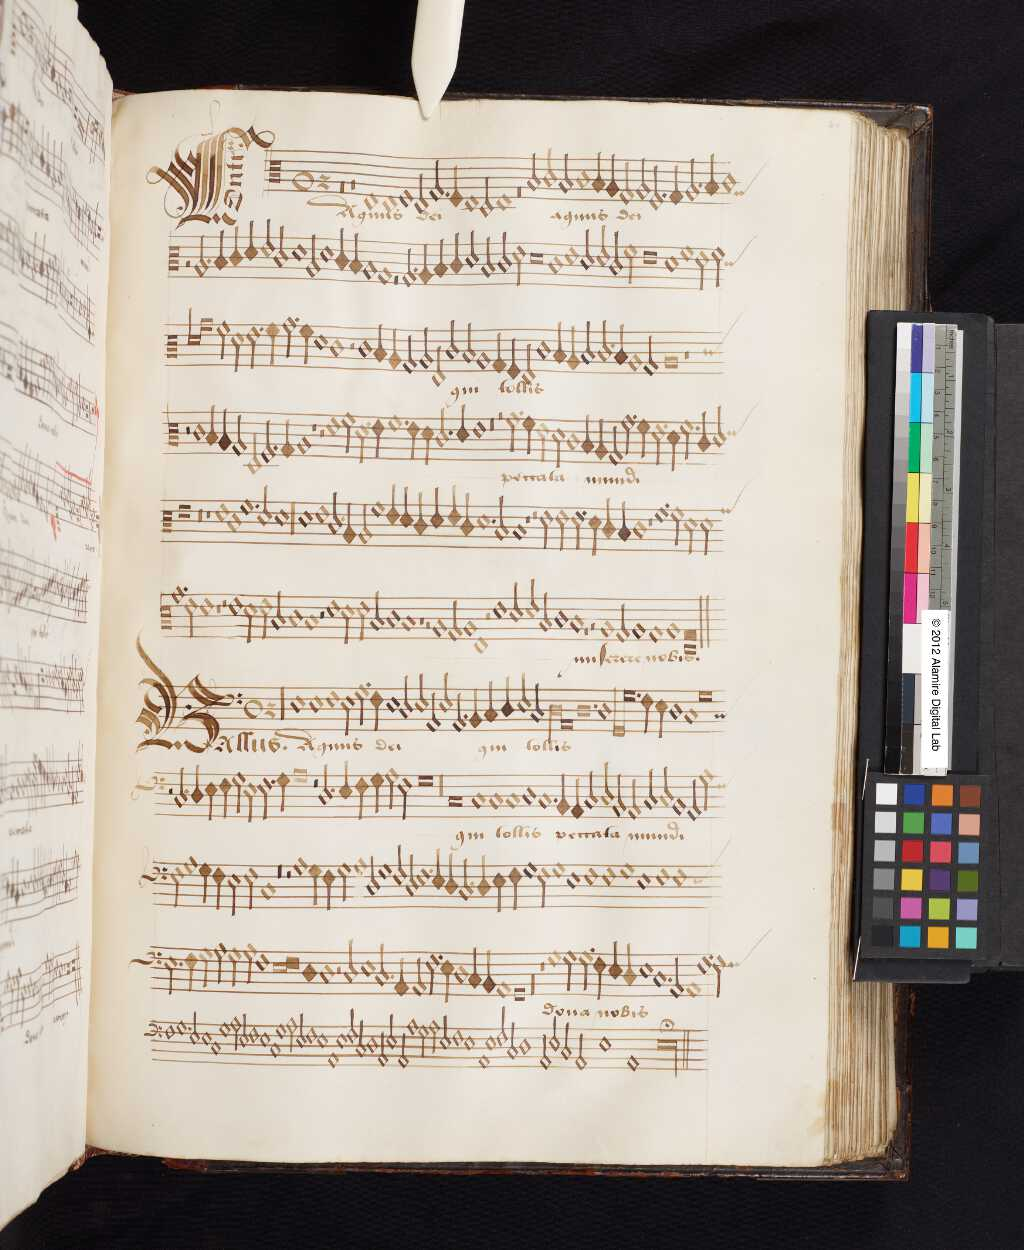breve_11: (510, 980, 529, 1005)
breve_6: (269, 956, 287, 979)
custos_5: (726, 949, 748, 981)
f clef_5: (131, 936, 161, 975)
l1colored breve_5: (285, 953, 299, 974)
l2colored semibreve_7: (299, 957, 317, 988)
longa rest: (526, 948, 539, 1004)
minim rest: (333, 936, 343, 994)
minim_11: (670, 948, 685, 1003)
minim_3: (212, 937, 227, 987), (241, 940, 255, 987)
minim_4: (197, 939, 215, 991), (560, 943, 577, 994), (226, 940, 243, 990), (577, 946, 591, 994)
minim_5: (411, 953, 428, 1000), (425, 949, 440, 997), (712, 949, 726, 1001)
minim_6: (161, 946, 177, 998)
minim_7: (342, 936, 358, 989)
minim_8: (373, 941, 388, 990)
point: (662, 971, 675, 985), (385, 967, 397, 983), (586, 943, 598, 957), (174, 955, 186, 971), (433, 948, 444, 963), (705, 949, 717, 964)
semibreve rest: (536, 945, 547, 1003)
semibreve_10: (684, 978, 704, 1002), (494, 975, 512, 1001)
semibreve_4: (546, 944, 562, 972)
semibreve_5: (694, 948, 712, 979), (254, 947, 270, 977)
semibreve_6: (639, 953, 655, 982), (360, 951, 376, 981)
semibreve_7: (319, 957, 336, 991), (454, 958, 470, 987)
semibreve_8: (651, 966, 667, 993)
semiminim_10: (394, 952, 409, 1001)
semiminim_5: (591, 950, 607, 1003), (184, 945, 198, 997)
semiminim_6: (609, 937, 624, 984), (441, 954, 454, 1002)
semiminim_7: (622, 939, 637, 991)
semiminim_8: (468, 943, 482, 995)
semiminim_9: (481, 946, 496, 999)
